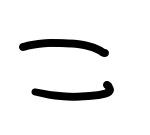eqv: (18, 36, 115, 102)
